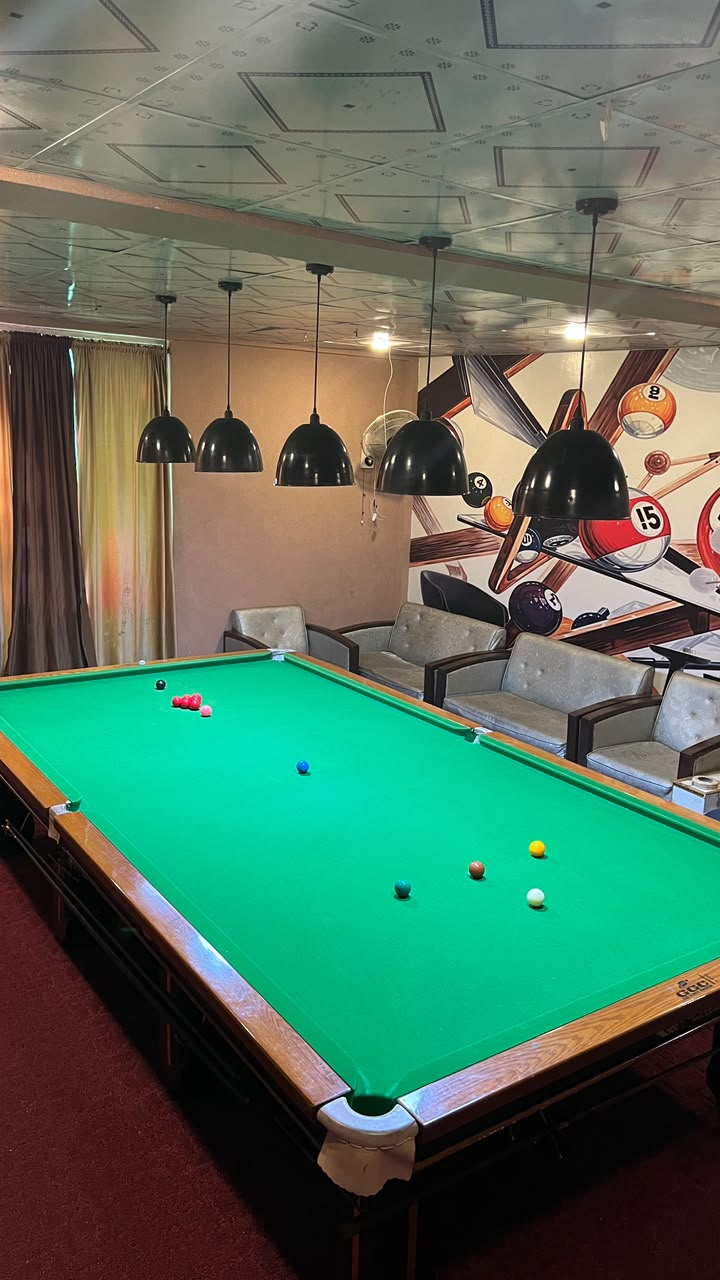Snooker: (169, 692, 205, 711)
